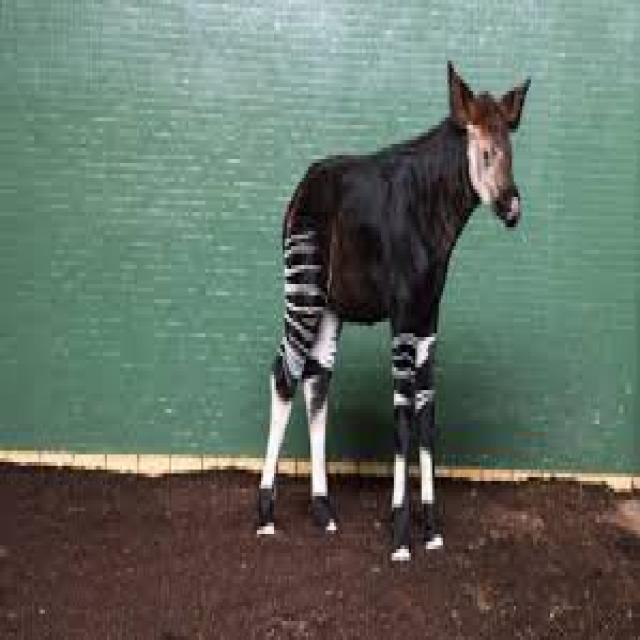Okapi: (252, 48, 534, 578)
